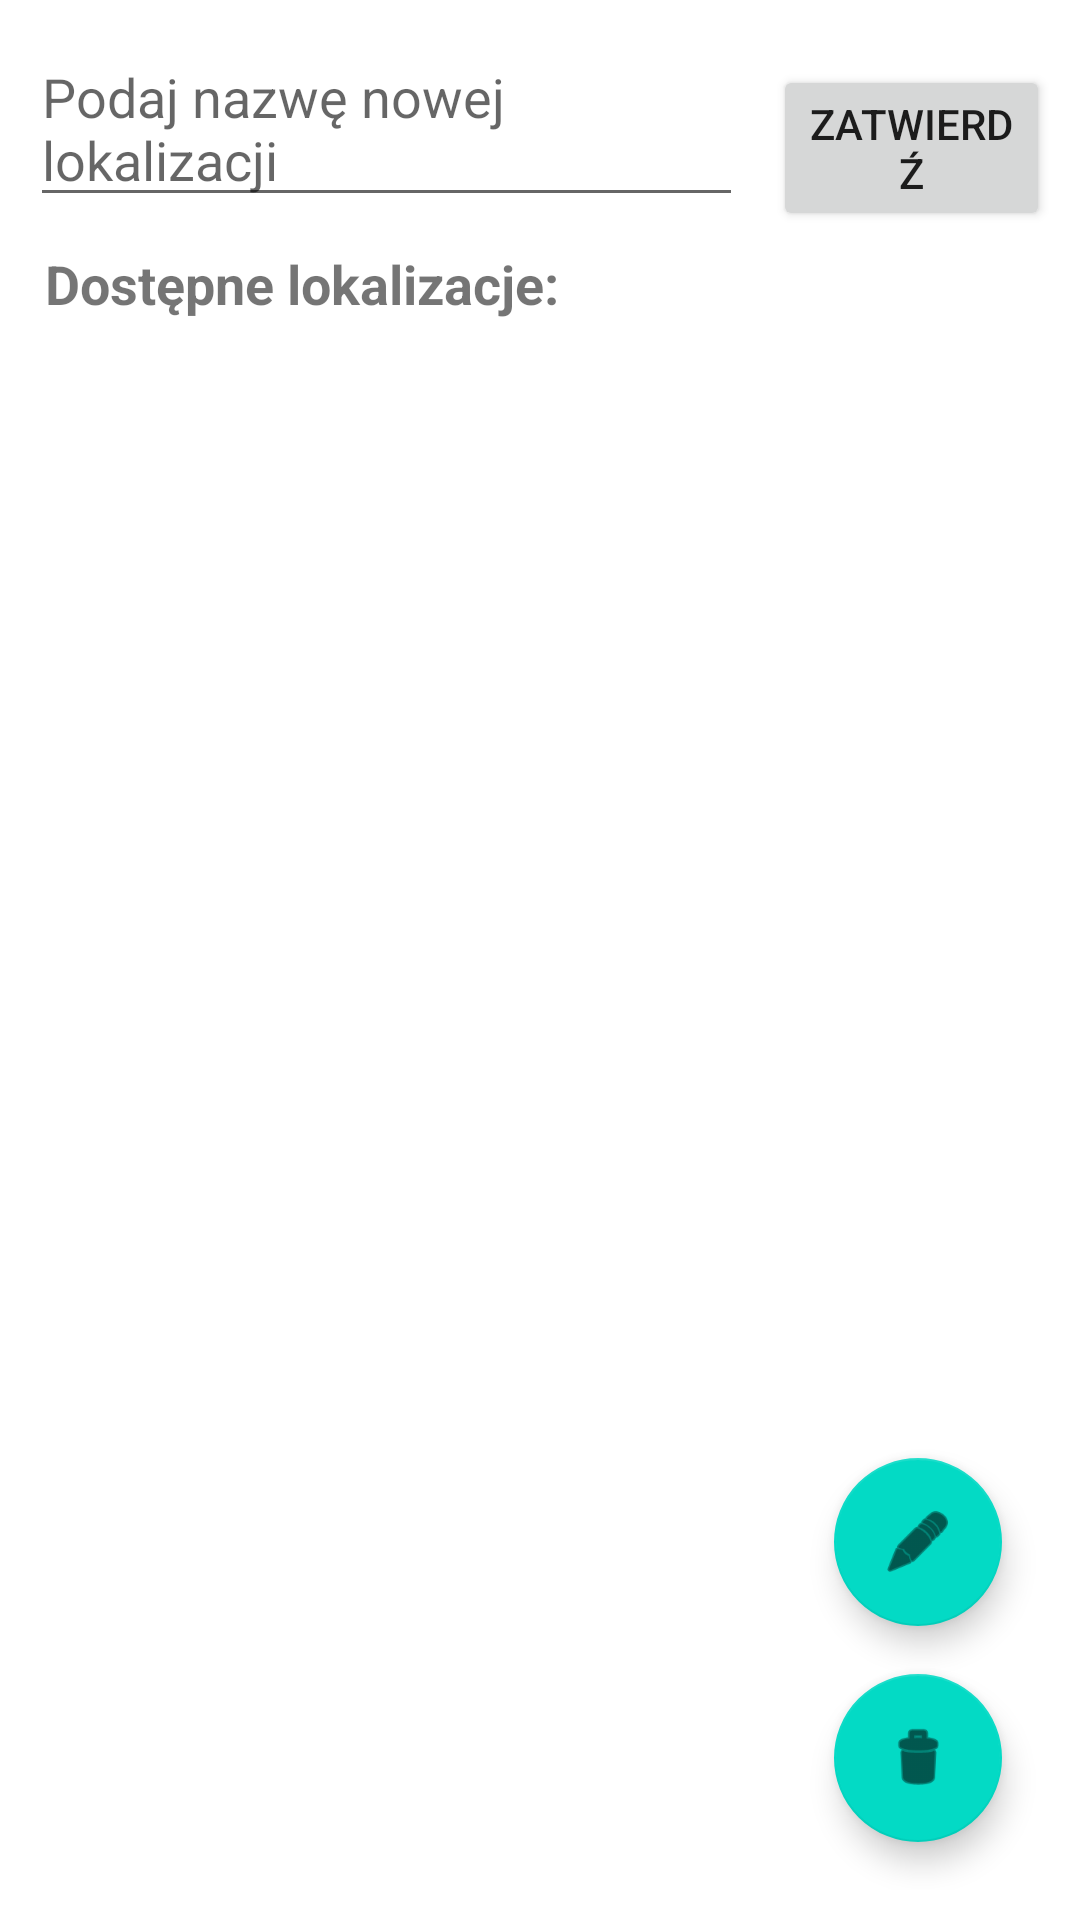

Named icons in this screenshot (1080 x 1920) and their bounding boxes, (x1, y1, x2, y2):
delete: (834, 1674, 1002, 1842)
edit: (834, 1458, 1002, 1626)
